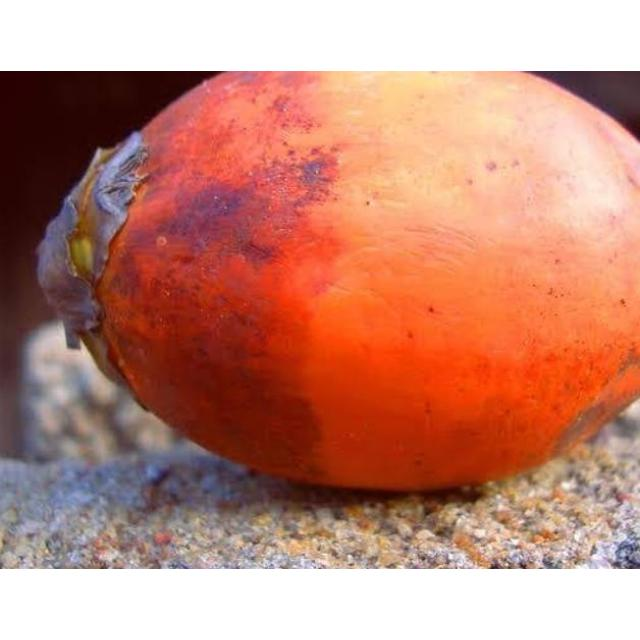good: (37, 71, 639, 496)
